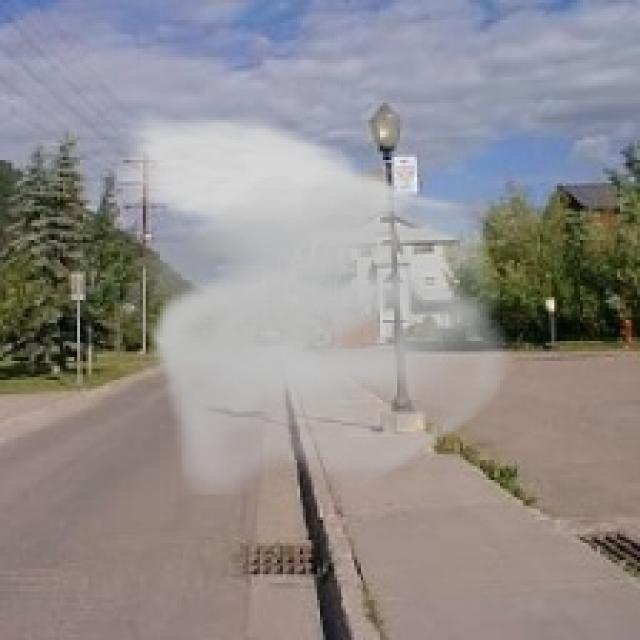smoke: (103, 109, 523, 497)
